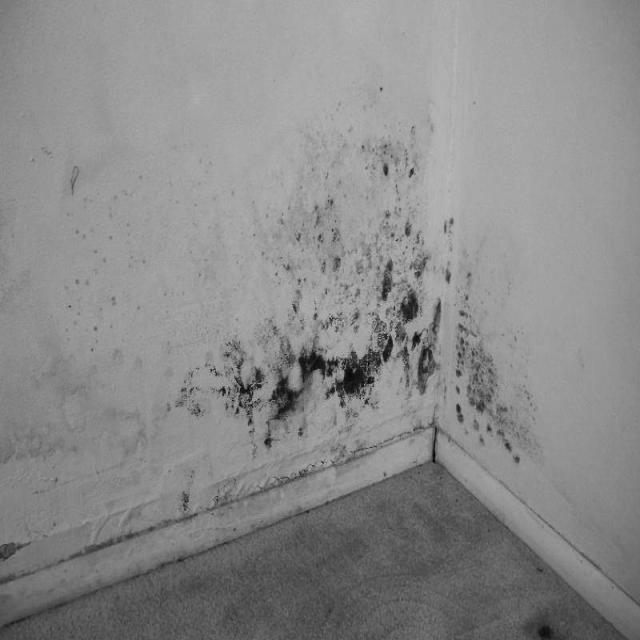stain marks: (164, 84, 544, 471), (56, 160, 152, 378)
